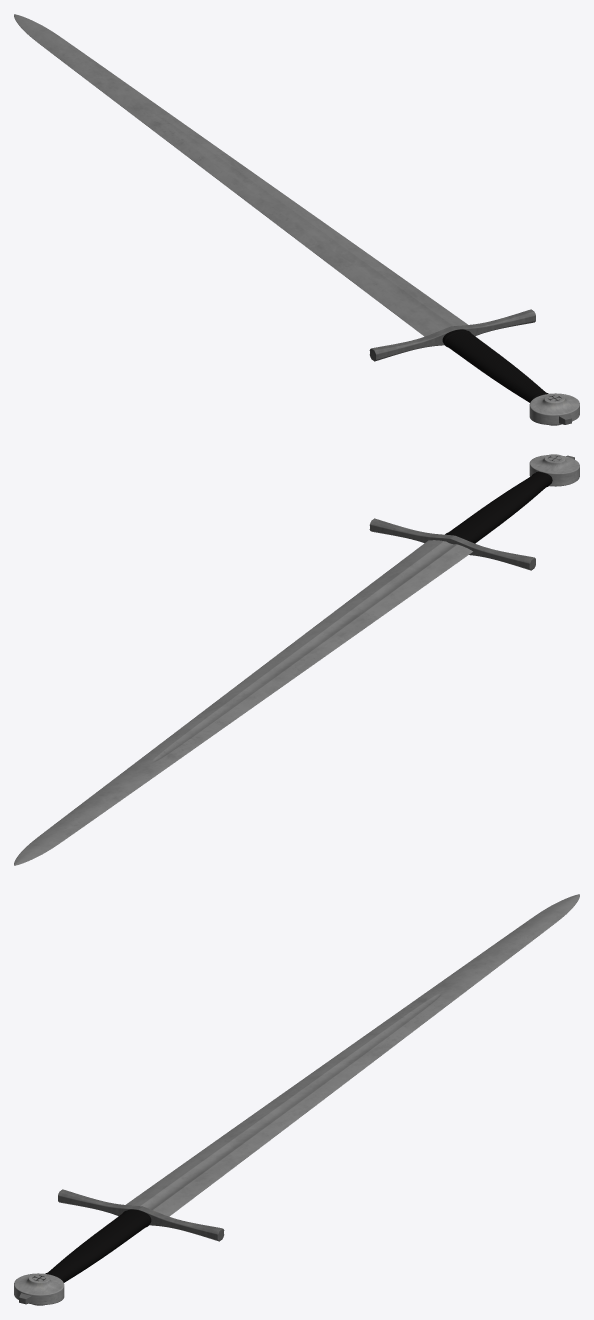
Rendered from oakeshott_type_xiia_longsword_albion_baron.glb.
3 renders of one model, top to bottom at view 1: azimuth 30°, elevation 25°; view 2: azimuth 150°, elevation 25°; view 3: azimuth 330°, elevation 25°, orthographic.
Parts seen in each view (by area): view 1: Box021, Object009_leather_0, Box022, Object010_bladeawfesdfg_0; view 2: Box021, Object009_leather_0, Box022, Object010_bladeawfesdfg_0; view 3: Box021, Object009_leather_0, Box022, Object010_bladeawfesdfg_0.
Part boxes in pixels (x1,y1,x2,y2): Box021: (14, 14, 467, 336); Object009_leather_0: (442, 329, 548, 402); Box022: (369, 309, 571, 424); Object010_bladeawfesdfg_0: (529, 393, 579, 425); Box021: (14, 540, 472, 865); Object009_leather_0: (445, 471, 552, 543); Box022: (369, 455, 574, 570); Object010_bladeawfesdfg_0: (529, 454, 579, 486); Box021: (126, 894, 579, 1216); Object009_leather_0: (45, 1209, 151, 1282); Box022: (19, 1189, 224, 1304); Object010_bladeawfesdfg_0: (14, 1273, 64, 1305).
Bounding box in the file's own units: 0.2001 × 0.0277 × 1.2.
Materials: 4 (3 with a texture image).
